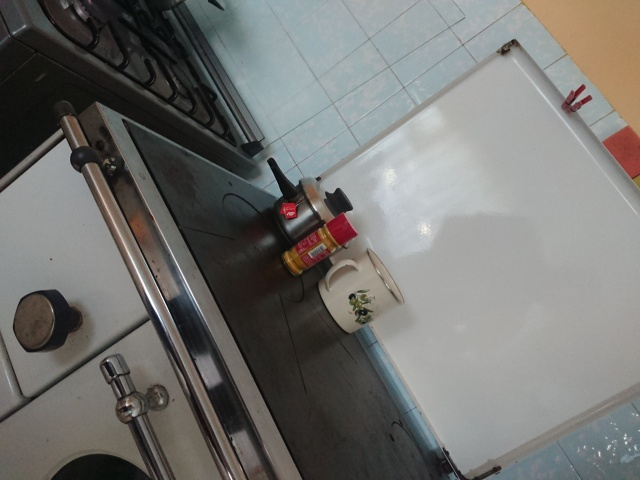Kotanyi Curry Spices Mix 70g: (278, 210, 359, 278)
